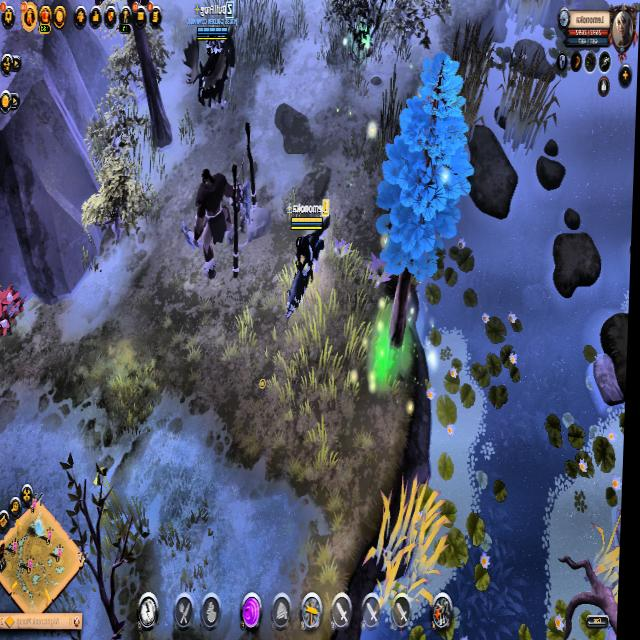fiber tier 5: (0, 283, 27, 341)
wood tier 4: (374, 51, 480, 280)
